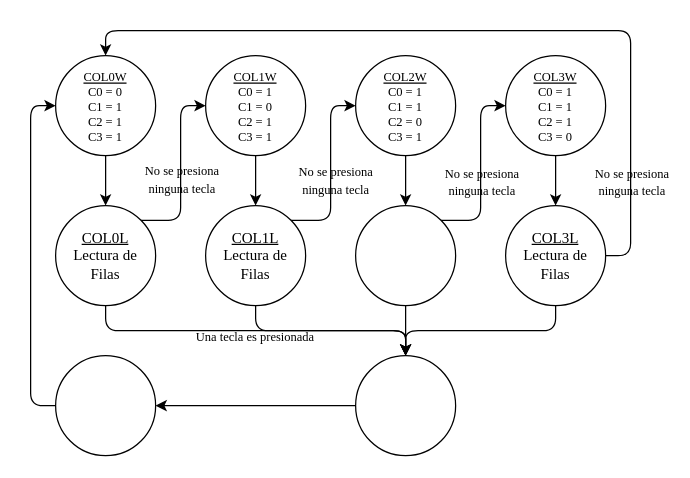
Some shapes in this 690 by 478 pixel diagram are drawn without their labels. The shapes that lost their labels are listed below. From the top down, each one's box as (x1, y1, x2, y2) in pixels, then its label:
(354, 204, 456, 306): COL2L Lectura de Filas
(54, 354, 156, 456): CONFIRM_STATE Se actualiza el dato de la entrada A de la ALU
(354, 354, 456, 456): WAIT_STATE Espera a que las filas vuelvan a nivel alto
